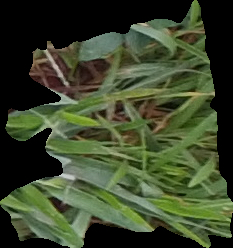grass: (2, 1, 232, 247)
